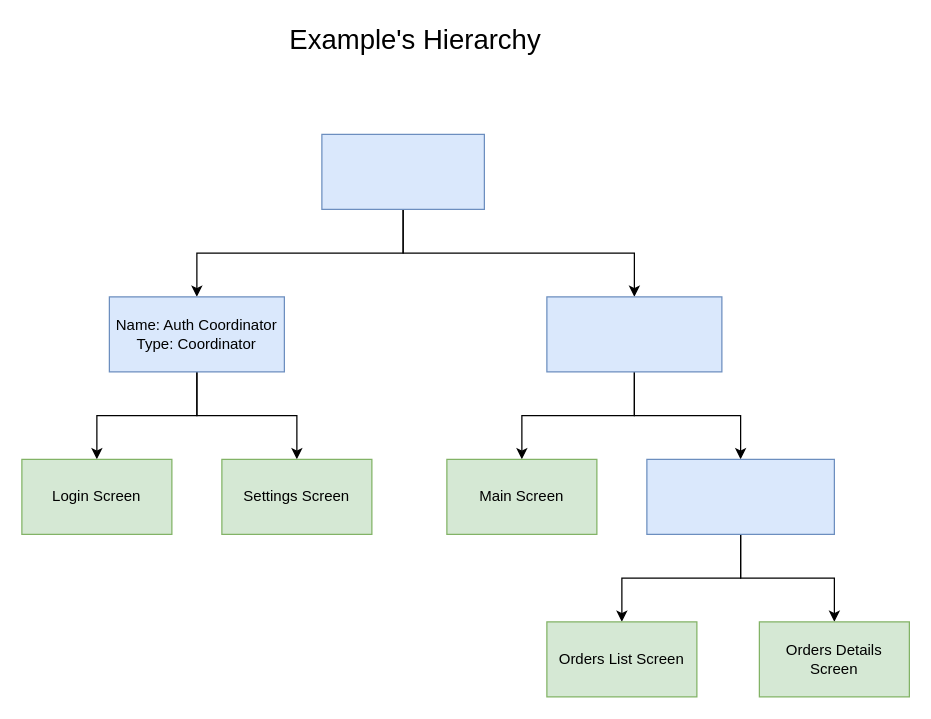
This 931x719 diagram has some shape labels left out. Here are the shapes that lost their labels. From the top down, the centre of each, then its label:
At [402,171]: "Name: App Coordinator Type: RootCoordinator".
At [634,334]: "Name: Main Coordinator Type: HostCoordinator".
At [740,496]: "Name: Orders Coordinator Type: Coordinator".
